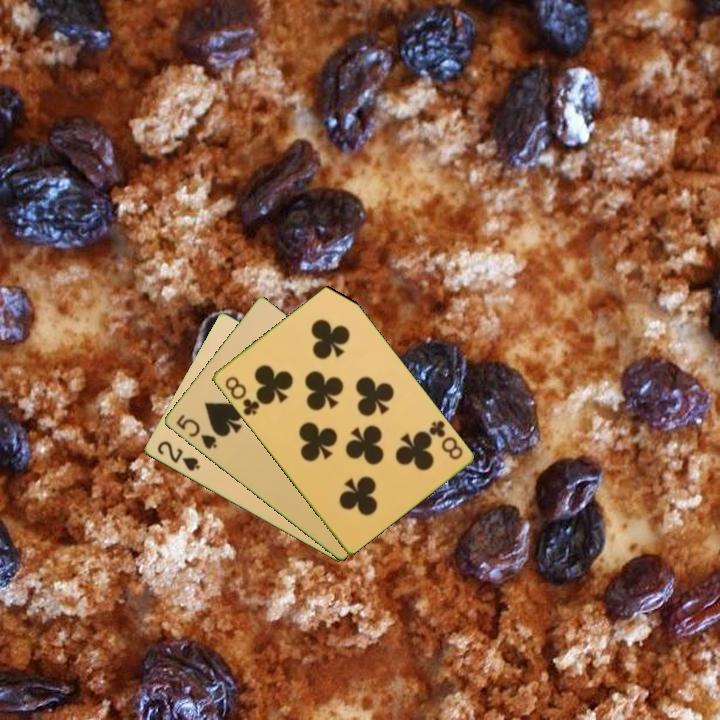2s: (153, 437, 203, 474)
5s: (172, 411, 219, 452)
8c: (221, 372, 262, 418), (425, 417, 465, 463)
